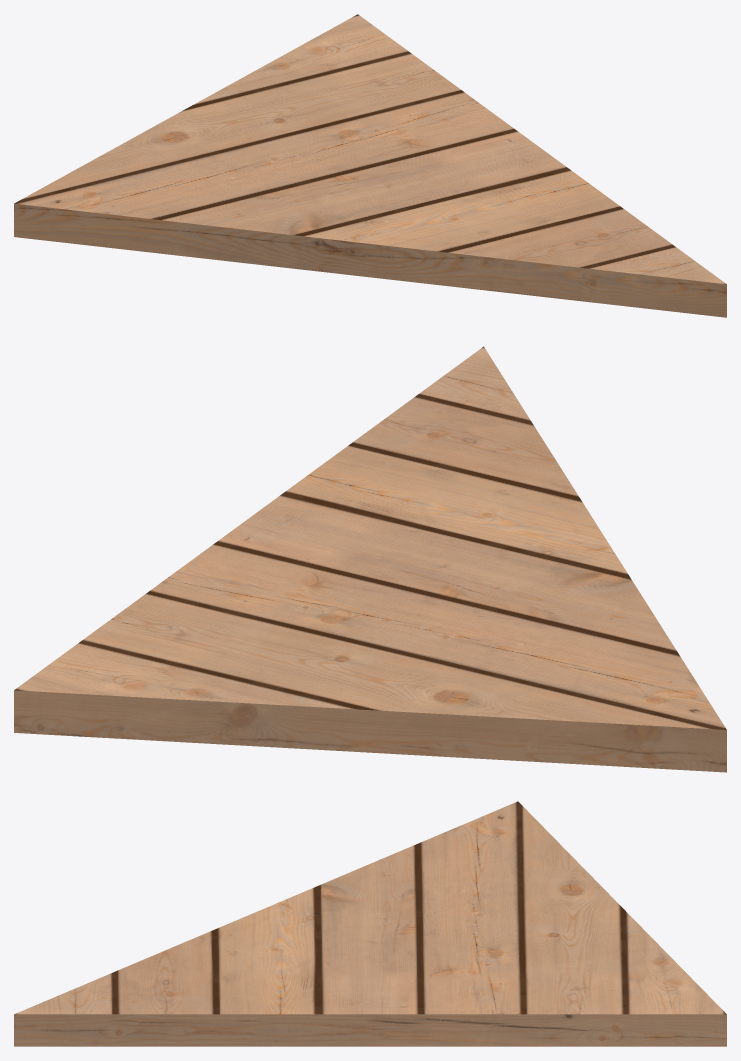
The model's file is WoodRoadCorner2.fbx.
The picture shows the model from 3 angles, top to bottom: view 1: azimuth 30°, elevation 25°; view 2: azimuth 150°, elevation 25°; view 3: azimuth 270°, elevation 25°; orthographic projection. The views are drawn at different scales.
Visible parts, largest first — view 1: WoodRoadCorner2; view 2: WoodRoadCorner2; view 3: WoodRoadCorner2.
Boxes of the visible parts, x1,y1,x2,y2 form: WoodRoadCorner2: (14, 14, 726, 317); WoodRoadCorner2: (14, 346, 726, 772); WoodRoadCorner2: (14, 801, 726, 1046).
Size of the model in its own units: 141 by 10 by 200.
